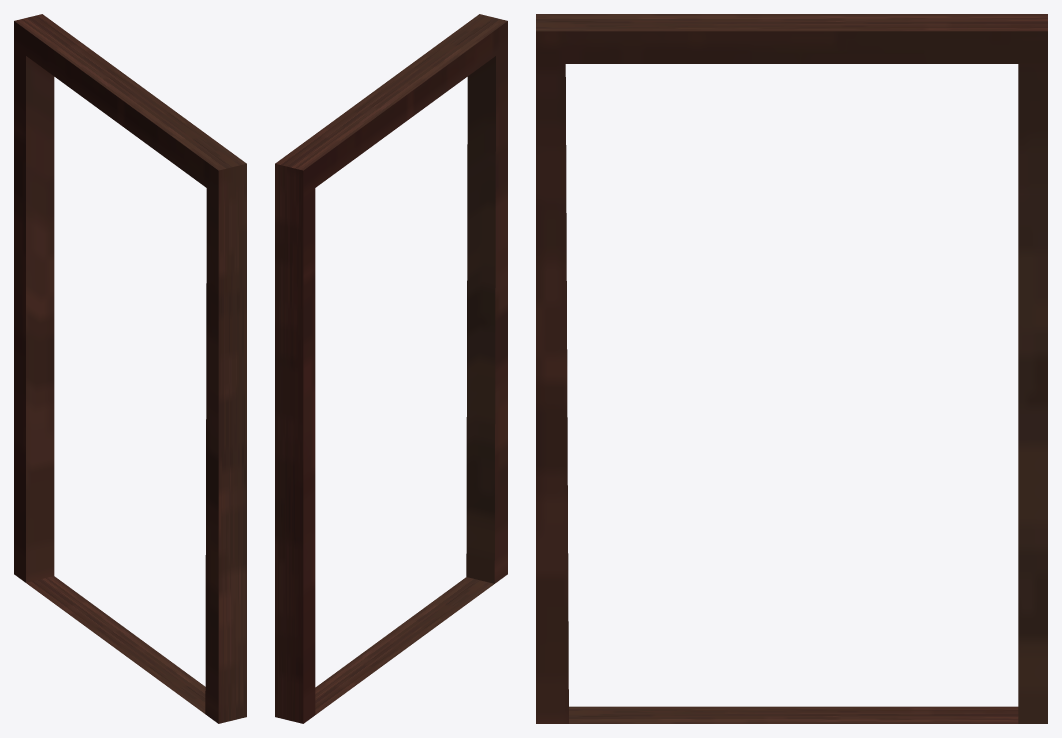
Rendered from PDH_DoorFrame.fbx.
3 renders of one model, left to right at view 1: azimuth 30°, elevation 25°; view 2: azimuth 150°, elevation 25°; view 3: azimuth 270°, elevation 25°, orthographic. The views are drawn at different scales.
Visible parts, largest first — view 1: Cube; view 2: Cube; view 3: Cube.
Part boxes in pixels (bbox=[...]): Cube: bbox=[14, 14, 246, 723]; Cube: bbox=[275, 14, 507, 723]; Cube: bbox=[536, 14, 1047, 723].
Size of the model in its own units: 11.41 by 143 by 213.
